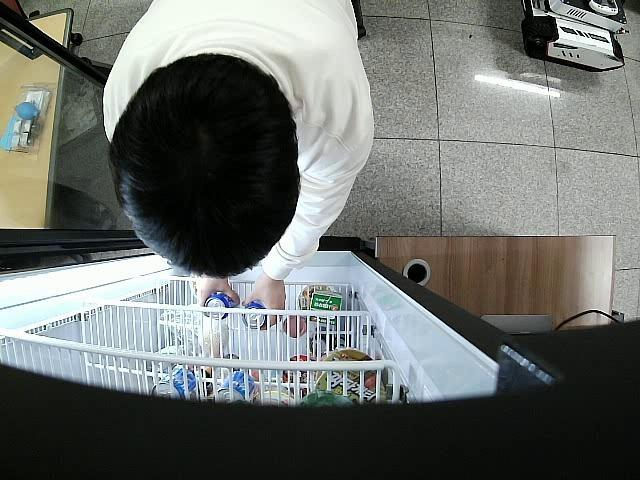13_pocariSweat: (242, 302, 271, 329), (204, 293, 232, 320)
